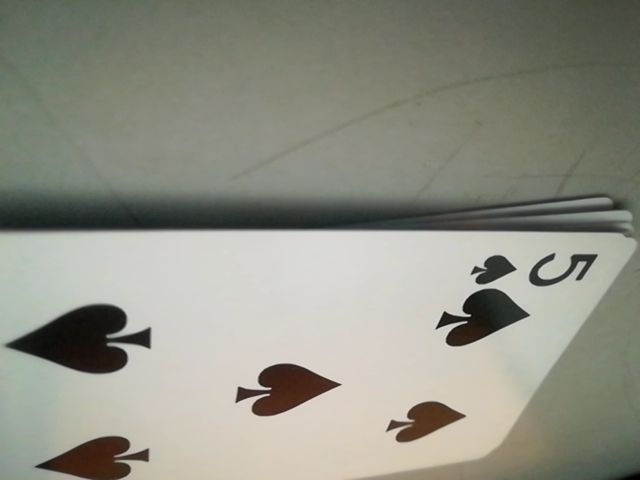ht 5: (461, 240, 609, 287)
